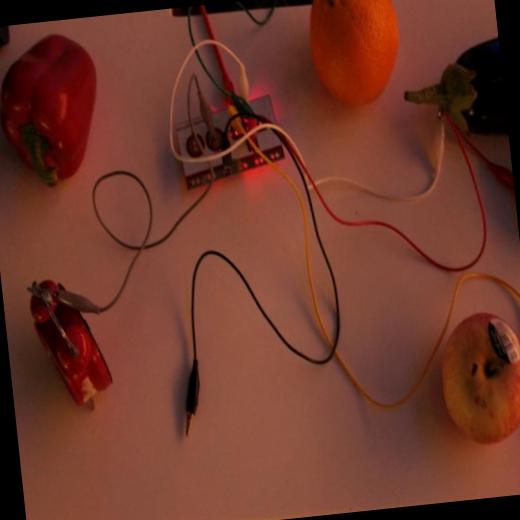Grape: (305, 0, 412, 106), (435, 312, 520, 438)
